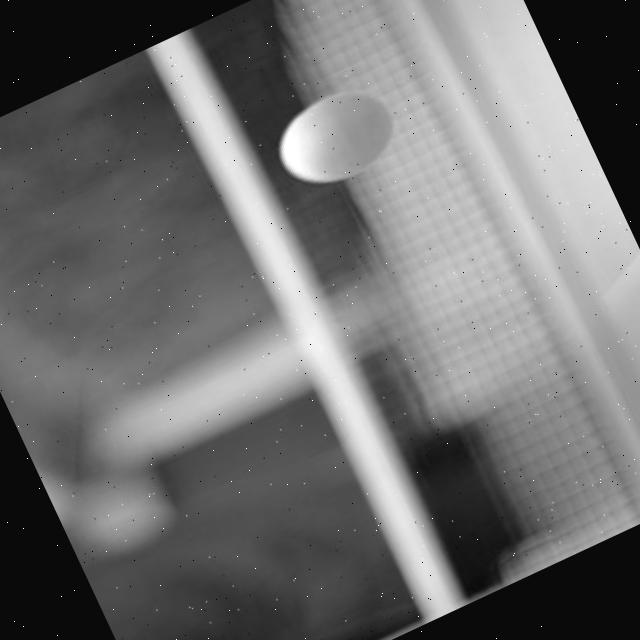ping-pong-ball: (264, 74, 408, 200)
